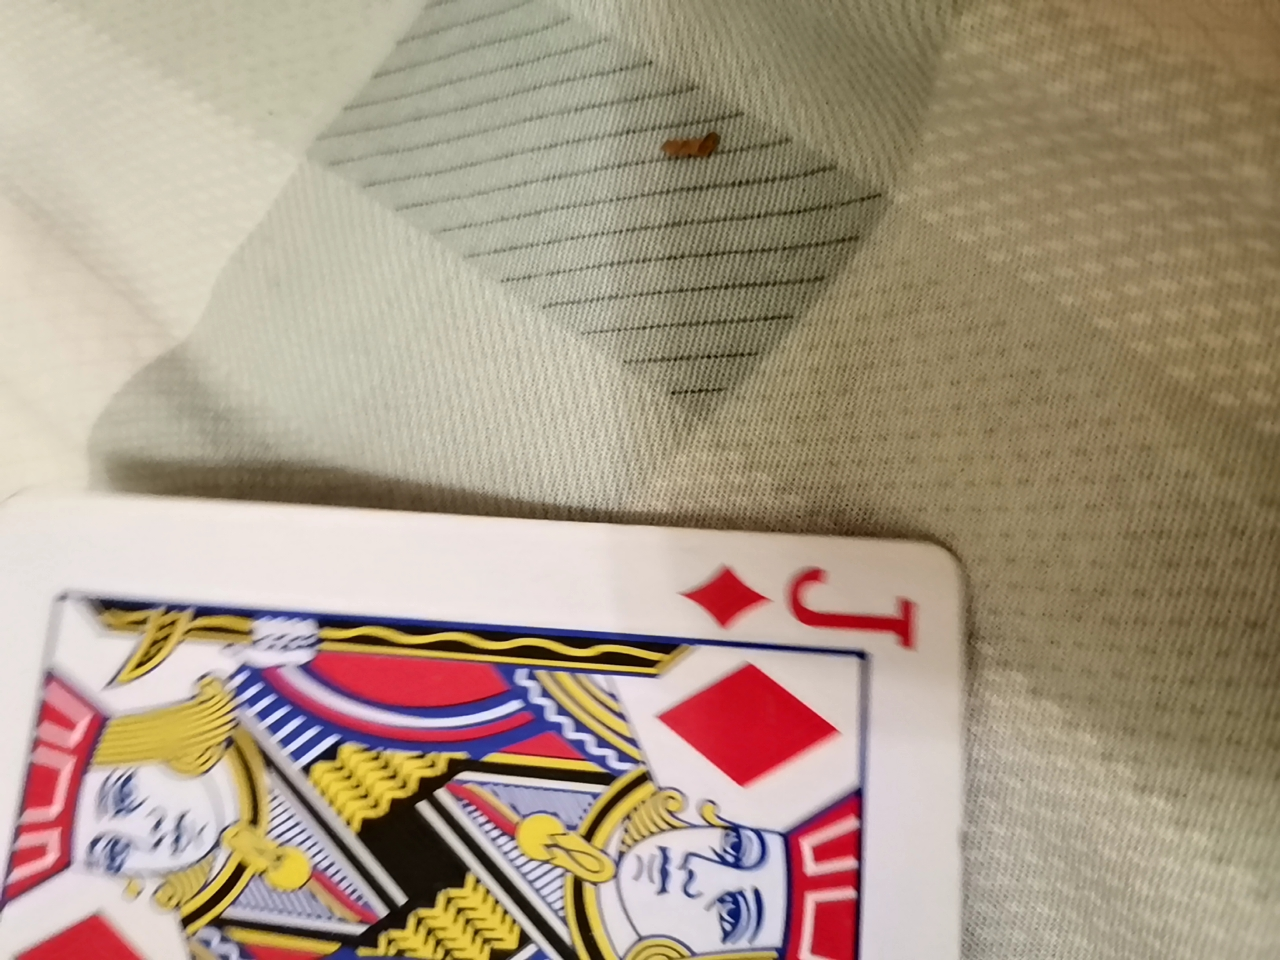fk j: (5, 492, 999, 954)
